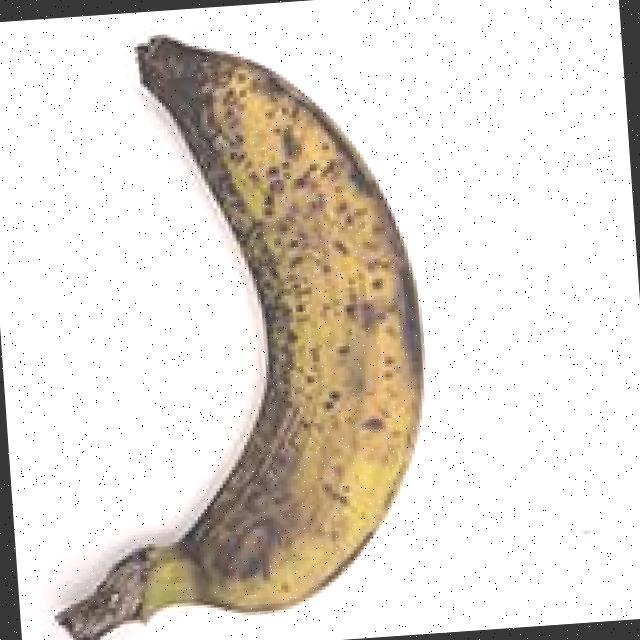Overripe: (2, 0, 447, 640)
